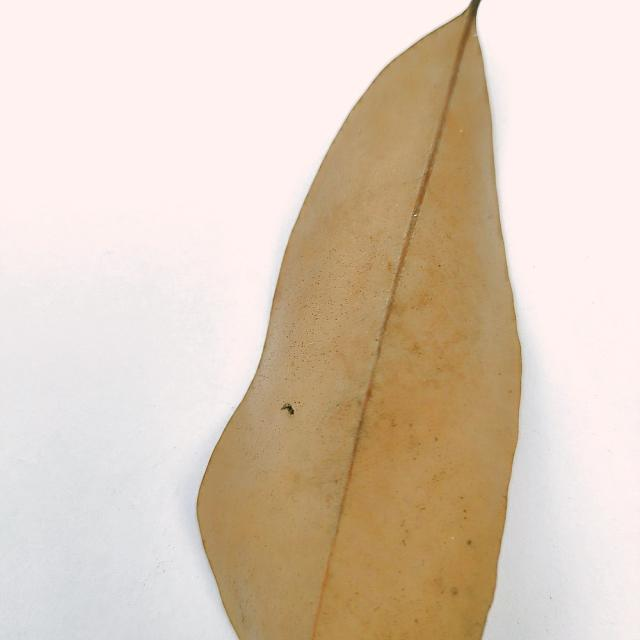Dry_Leaf-Lychee: (195, 0, 524, 639)
